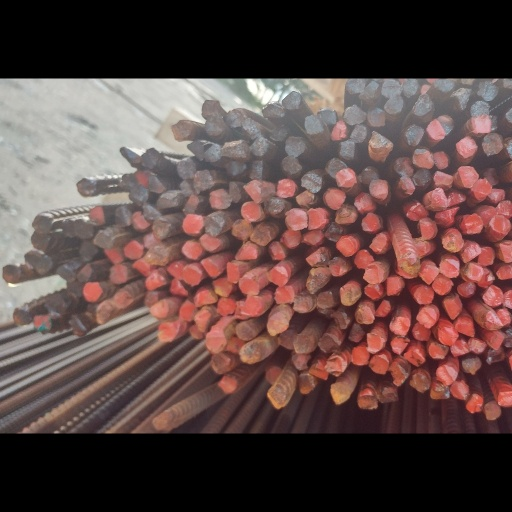dipstick: (308, 268, 328, 293), (222, 140, 248, 159), (209, 189, 231, 210), (481, 133, 502, 155), (343, 104, 366, 124), (205, 331, 226, 352), (412, 95, 433, 116), (285, 210, 307, 230), (306, 247, 328, 267), (442, 229, 462, 251), (85, 304, 108, 323), (368, 131, 391, 150), (241, 342, 259, 366), (72, 219, 93, 239), (120, 147, 141, 167), (172, 119, 192, 140), (269, 265, 289, 286), (267, 314, 287, 335), (457, 166, 478, 186), (369, 179, 388, 201), (435, 365, 457, 384), (443, 296, 462, 318), (483, 285, 502, 307), (183, 215, 203, 235), (241, 202, 261, 222), (361, 212, 381, 232), (413, 149, 433, 169), (457, 137, 476, 158), (331, 383, 350, 404), (181, 241, 203, 259), (252, 225, 270, 247), (318, 334, 340, 352), (195, 169, 212, 192), (145, 247, 168, 264), (437, 207, 460, 224), (390, 362, 406, 386), (129, 185, 148, 205), (109, 264, 128, 284), (159, 322, 178, 342), (242, 296, 262, 315), (231, 220, 251, 239), (204, 117, 224, 136), (201, 99, 221, 118), (276, 178, 295, 198), (462, 214, 481, 234), (461, 243, 480, 263), (416, 308, 436, 327), (478, 81, 498, 100), (76, 178, 97, 196), (381, 79, 402, 97), (419, 218, 437, 239), (205, 214, 222, 236), (308, 208, 325, 230), (83, 282, 102, 301), (113, 289, 132, 308), (285, 136, 304, 155), (326, 189, 345, 208), (390, 317, 409, 336), (450, 381, 469, 400), (490, 217, 509, 236), (267, 389, 285, 409), (250, 136, 268, 156), (282, 229, 300, 249), (326, 356, 344, 376), (340, 286, 360, 304), (354, 306, 374, 324), (387, 276, 405, 296), (369, 232, 387, 252), (143, 148, 160, 169), (262, 102, 283, 119), (363, 266, 384, 283), (484, 310, 501, 331), (245, 181, 261, 203), (302, 230, 324, 246), (454, 87, 470, 109), (234, 244, 257, 259), (31, 231, 49, 250), (32, 212, 50, 231), (88, 206, 106, 225), (48, 298, 66, 317), (274, 286, 293, 304), (302, 174, 321, 192), (354, 250, 373, 268), (360, 81, 378, 100), (471, 115, 490, 133), (395, 157, 413, 176), (473, 178, 492, 196), (440, 259, 459, 277), (410, 374, 429, 392), (412, 324, 430, 343), (438, 327, 457, 345), (456, 318, 475, 336), (33, 257, 53, 274), (204, 142, 221, 162), (218, 297, 235, 317), (282, 157, 302, 174), (427, 120, 444, 140), (399, 255, 419, 272), (478, 205, 495, 225), (195, 290, 216, 306), (239, 279, 260, 295), (407, 204, 428, 220), (211, 354, 229, 372), (219, 375, 237, 393), (294, 335, 312, 353), (355, 193, 373, 211), (421, 265, 439, 283), (486, 330, 504, 348), (147, 174, 164, 193), (154, 220, 171, 239), (94, 231, 113, 248), (56, 265, 75, 282), (68, 317, 87, 334), (283, 90, 300, 109), (328, 258, 347, 275), (364, 283, 383, 300), (368, 108, 385, 127), (414, 287, 433, 304), (390, 338, 409, 355), (466, 394, 483, 413), (195, 308, 209, 331), (178, 159, 194, 179), (80, 241, 96, 261), (235, 324, 255, 340), (407, 125, 423, 145), (438, 115, 454, 135), (357, 393, 377, 409), (157, 193, 178, 208), (3, 265, 20, 283), (124, 241, 142, 258), (13, 308, 31, 325), (213, 279, 231, 296), (226, 109, 243, 127), (293, 295, 310, 313), (292, 353, 310, 370), (328, 159, 346, 176), (336, 238, 353, 256), (433, 277, 451, 294), (370, 356, 388, 373), (450, 339, 468, 356), (462, 357, 480, 374), (115, 207, 131, 226), (180, 301, 196, 320), (361, 165, 377, 184), (471, 101, 490, 117), (104, 249, 124, 264), (431, 189, 446, 209), (463, 264, 483, 279), (378, 388, 398, 403), (150, 300, 167, 317), (183, 267, 200, 284), (171, 279, 188, 296), (187, 142, 204, 159), (350, 125, 367, 142), (431, 383, 448, 400), (265, 198, 283, 214), (269, 241, 285, 259), (279, 331, 295, 349), (298, 375, 314, 393), (333, 311, 349, 329), (305, 115, 321, 133), (402, 79, 418, 97), (352, 347, 368, 365), (485, 401, 501, 419), (478, 269, 494, 287), (311, 362, 326, 381), (331, 121, 346, 140), (367, 334, 382, 353), (131, 212, 145, 232), (248, 159, 262, 179), (145, 275, 166, 288), (271, 124, 287, 141), (385, 98, 402, 114), (486, 348, 503, 364), (183, 196, 198, 214), (76, 264, 91, 282), (337, 170, 355, 185), (399, 176, 414, 194), (226, 161, 245, 175), (434, 151, 448, 170), (405, 351, 424, 365), (429, 344, 448, 358), (336, 210, 356, 223), (433, 172, 453, 185), (152, 413, 168, 429), (202, 261, 218, 277), (243, 118, 259, 134), (316, 292, 332, 308), (320, 108, 336, 124), (414, 169, 430, 185), (168, 262, 183, 279), (448, 192, 465, 207), (457, 282, 474, 297), (497, 200, 512, 217), (143, 206, 161, 220), (345, 79, 363, 93), (226, 263, 239, 282), (296, 191, 312, 206), (326, 224, 342, 239), (414, 239, 429, 255), (499, 243, 511, 263), (133, 260, 150, 274), (340, 141, 354, 158), (483, 167, 497, 184), (227, 336, 240, 354), (201, 237, 219, 250), (479, 247, 492, 265), (349, 324, 362, 342), (119, 174, 138, 186), (434, 79, 453, 91), (135, 168, 149, 184), (180, 180, 194, 196), (34, 316, 51, 329), (376, 300, 389, 317), (469, 339, 486, 352), (266, 367, 280, 382), (497, 391, 512, 405), (61, 220, 73, 237), (490, 189, 504, 203), (497, 266, 512, 279), (143, 235, 160, 246), (25, 252, 38, 266), (189, 326, 203, 339), (230, 183, 240, 201), (235, 301, 245, 318), (145, 292, 157, 304)
